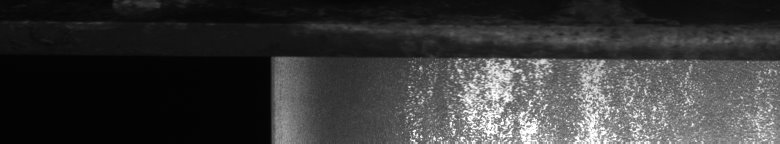kb: (275, 0, 776, 144)
